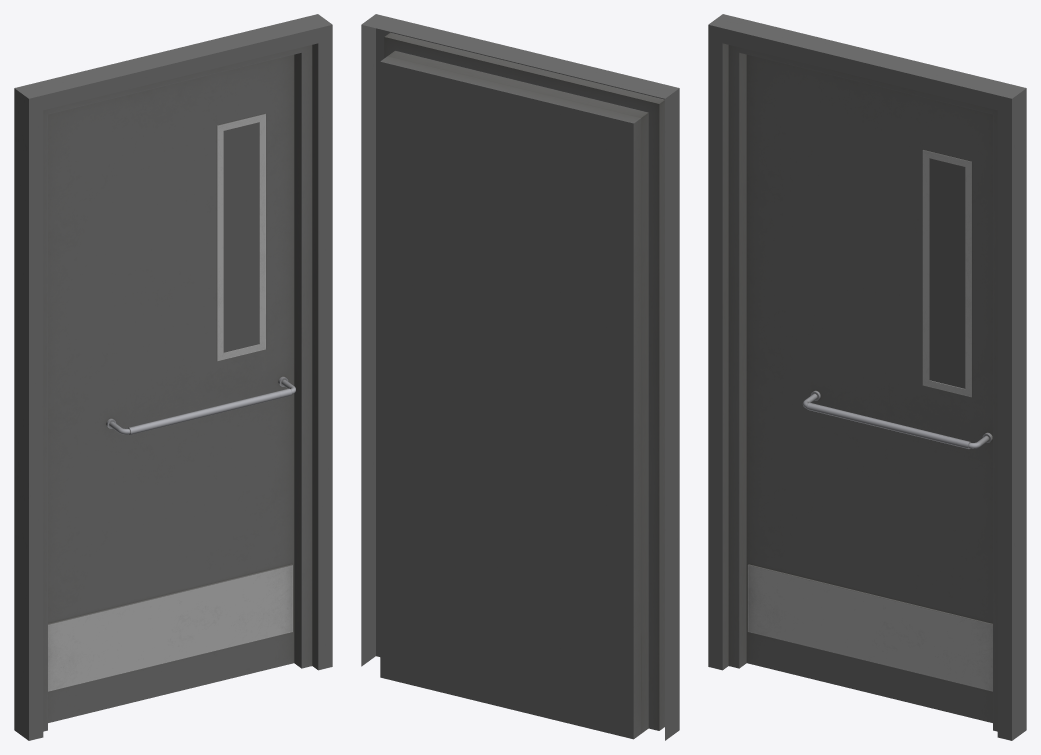
The model's file is door_door_metal.glb.
3 views of the same model, side by side, from view 1: azimuth 30°, elevation 25°; view 2: azimuth 150°, elevation 25°; view 3: azimuth 330°, elevation 25° (orthographic).
Parts seen in each view (by area): view 1: Object_3, Object_2; view 2: Object_3; view 3: Object_3, Object_2.
Part boxes in pixels (x1,y1,x2,y2): Object_3: (14, 14, 332, 740); Object_2: (223, 122, 259, 352); Object_3: (361, 14, 679, 740); Object_3: (708, 14, 1026, 740); Object_2: (929, 158, 965, 388).
Size of the model in its own units: 120 by 242 by 15.37.
Materials: 2 (1 with a texture image).
